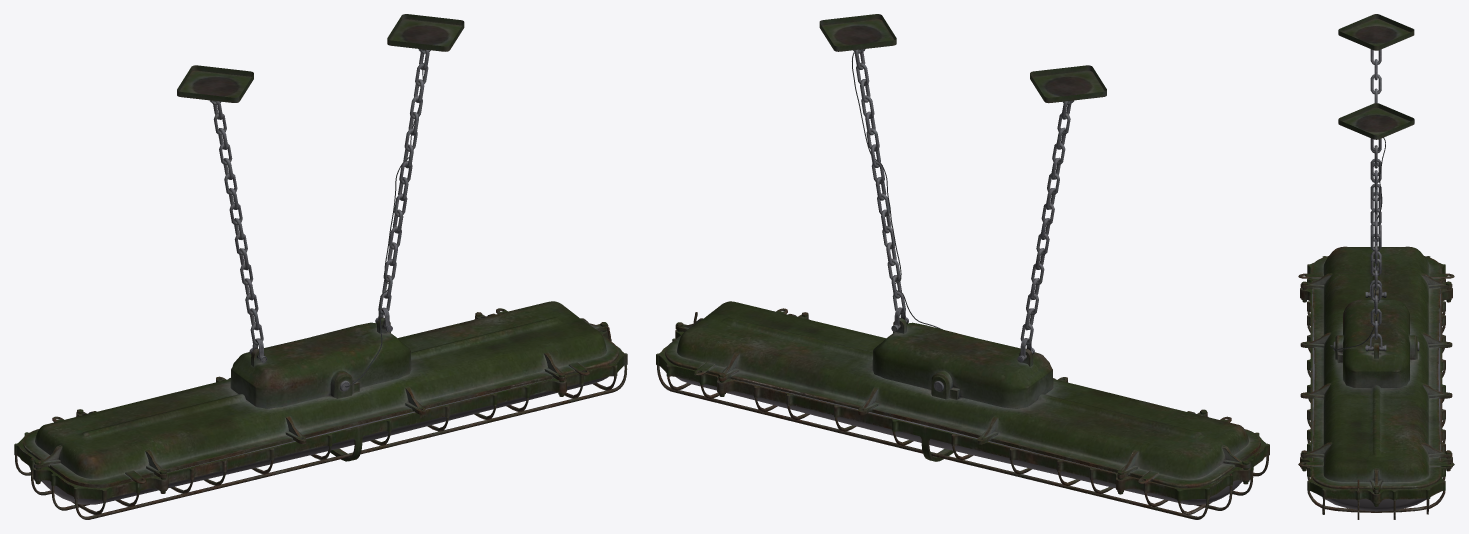
Rendered from caged_hanging_light.glb.
3 renders of one model, left to right at view 1: azimuth 30°, elevation 25°; view 2: azimuth 150°, elevation 25°; view 3: azimuth 270°, elevation 25°, orthographic. The views are drawn at different scales.
Parts seen in each view (by area): view 1: caged_hanging_light; view 2: caged_hanging_light; view 3: caged_hanging_light.
Part boxes in pixels (left/top/right/bottom): caged_hanging_light: left=14, top=14, right=627, bottom=519; caged_hanging_light: left=656, top=14, right=1269, bottom=519; caged_hanging_light: left=1298, top=14, right=1454, bottom=519.
Size of the model in its own units: 1.16 by 0.7501 by 0.3149.
1 material, 1 textured.
